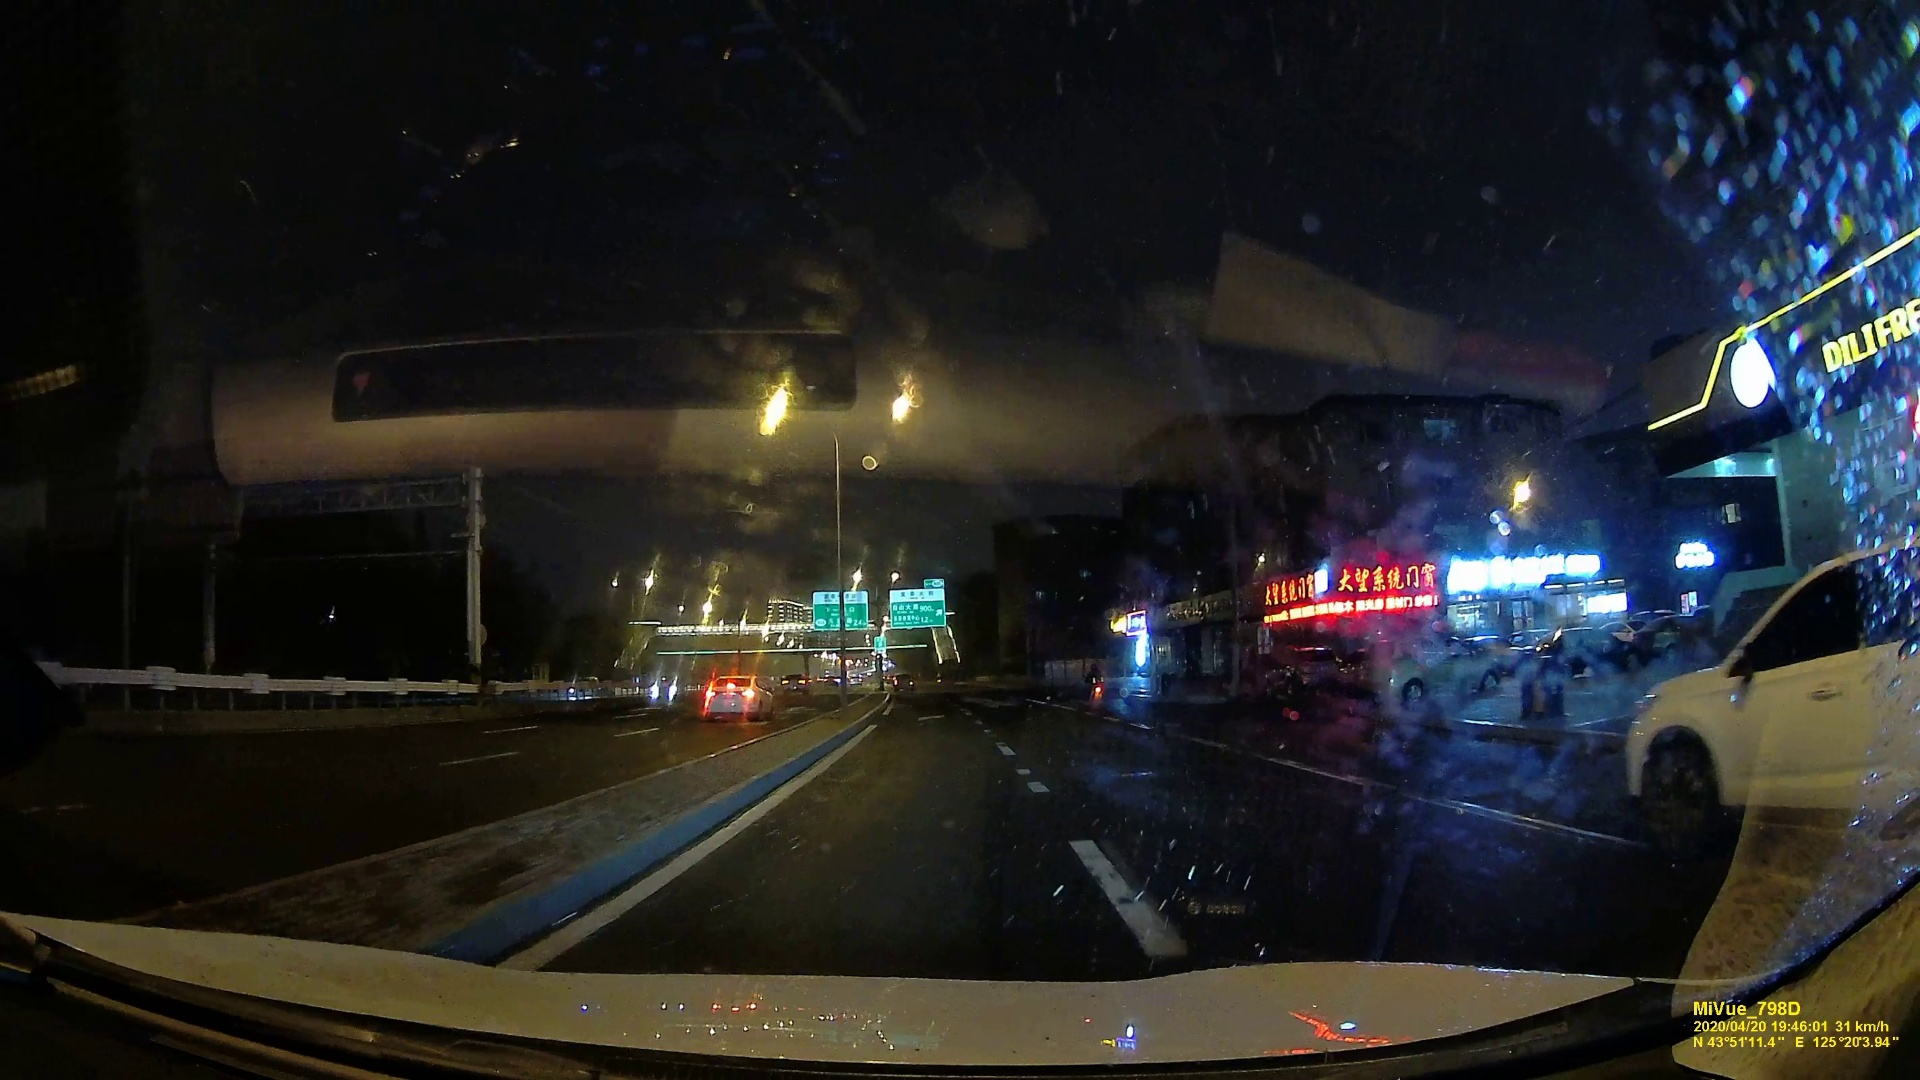person: (1085, 660, 1104, 687)
traffic_sign: (814, 592, 865, 628), (889, 590, 944, 622)
vehicle: (1620, 553, 1920, 828), (704, 675, 771, 716), (780, 672, 810, 697)
